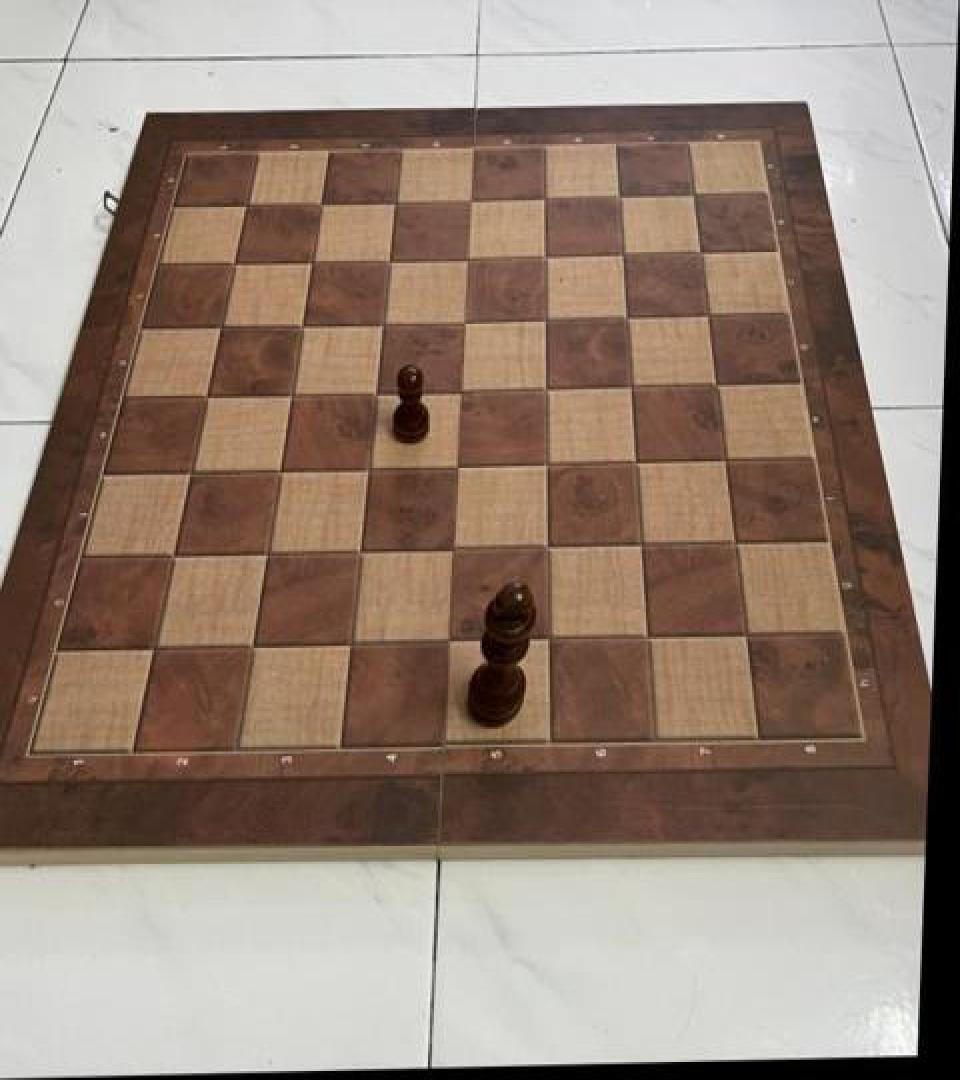xcorner: (675, 173, 709, 212), (600, 175, 634, 214), (375, 182, 409, 221), (136, 625, 170, 664), (525, 178, 559, 216), (450, 180, 484, 218), (300, 184, 334, 222), (226, 187, 260, 225), (682, 232, 716, 270), (603, 234, 637, 272), (525, 236, 559, 274), (447, 238, 481, 276), (369, 241, 403, 279), (291, 242, 325, 280), (214, 244, 248, 282), (689, 295, 723, 333), (607, 297, 641, 335), (525, 300, 559, 338), (444, 302, 478, 340), (363, 304, 397, 342), (282, 306, 316, 344), (201, 307, 235, 345), (697, 364, 731, 402), (611, 366, 645, 404), (526, 368, 560, 406), (441, 370, 475, 408), (356, 372, 390, 410), (271, 375, 305, 413), (187, 377, 221, 415), (705, 440, 739, 478), (615, 441, 649, 479), (526, 444, 560, 482), (437, 446, 471, 484), (348, 448, 382, 486), (260, 450, 294, 488), (171, 451, 205, 489), (715, 522, 749, 560), (620, 524, 654, 562), (526, 526, 560, 564), (433, 529, 467, 567), (340, 530, 374, 568), (247, 532, 281, 570), (154, 534, 188, 572), (725, 614, 759, 652), (626, 616, 660, 654), (527, 618, 561, 656), (429, 620, 463, 658), (331, 622, 365, 660), (233, 624, 267, 662)
